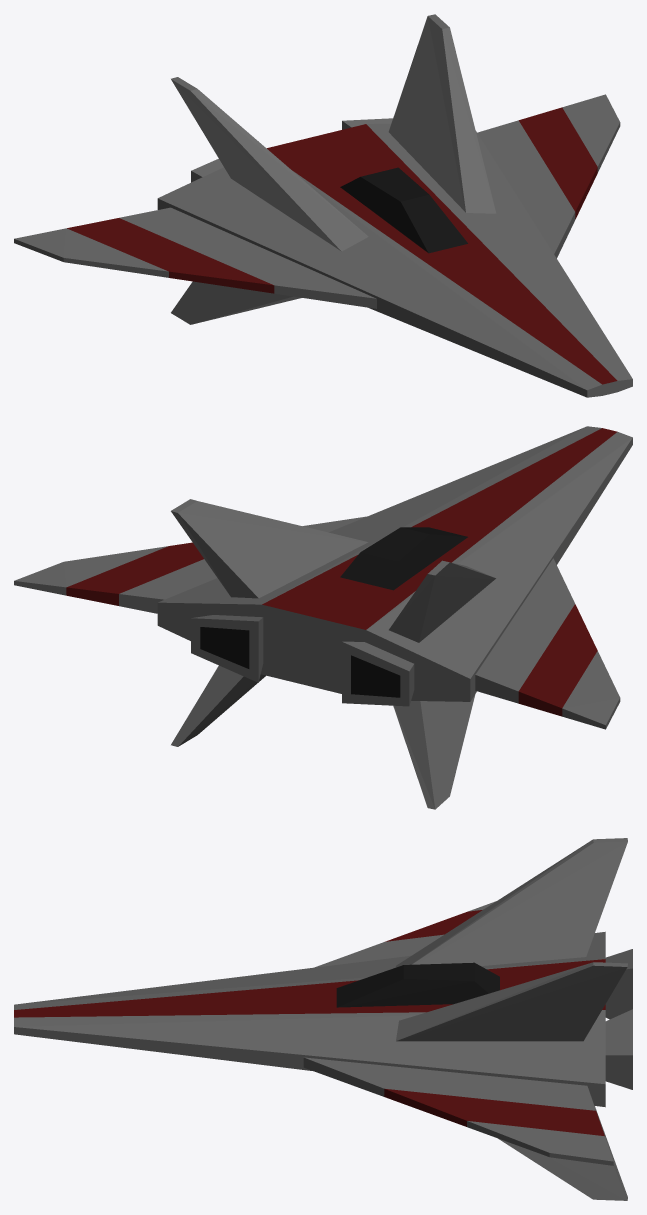
The picture shows the model from 3 angles, top to bottom: view 1: azimuth 30°, elevation 25°; view 2: azimuth 150°, elevation 25°; view 3: azimuth 270°, elevation 25°; orthographic projection.
Visible parts, largest first — view 1: Lo_poly_Spaceship_01_by_Liz_Reddington; view 2: Lo_poly_Spaceship_01_by_Liz_Reddington; view 3: Lo_poly_Spaceship_01_by_Liz_Reddington.
Boxes of the visible parts, bbox=[...] form: Lo_poly_Spaceship_01_by_Liz_Reddington: bbox=[14, 14, 632, 397]; Lo_poly_Spaceship_01_by_Liz_Reddington: bbox=[14, 426, 632, 809]; Lo_poly_Spaceship_01_by_Liz_Reddington: bbox=[14, 838, 632, 1200].
Size of the model in its own units: 33.85 by 12.8 by 30.69.
